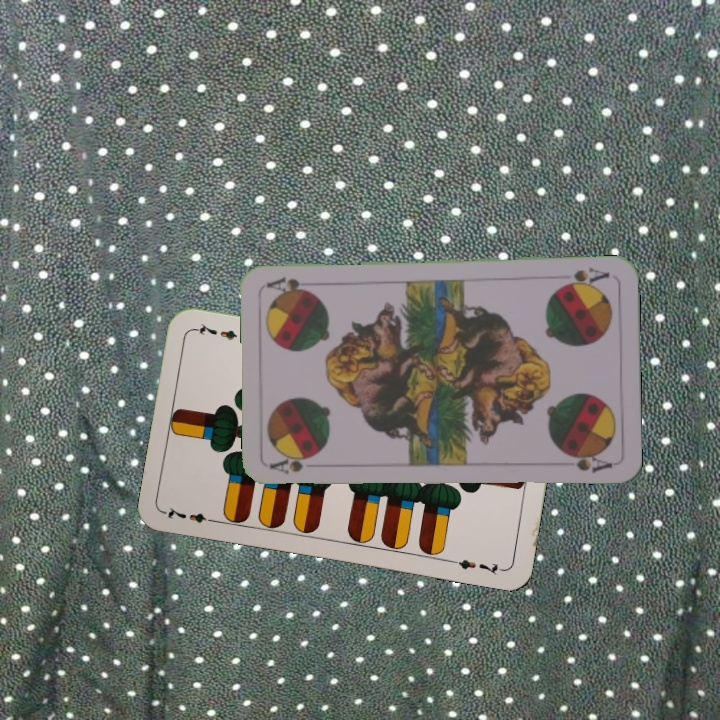E7: (161, 503, 220, 526)
SA: (554, 264, 612, 290), (267, 452, 319, 477)
